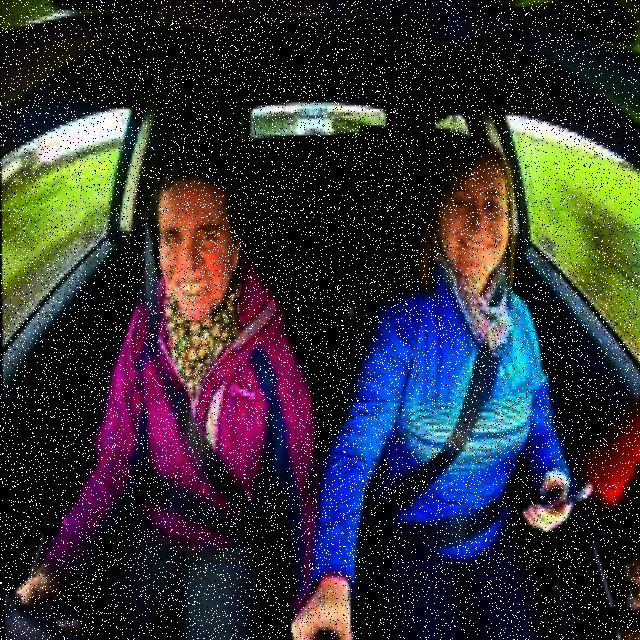seatbelt: (344, 266, 574, 580), (102, 291, 304, 568)
